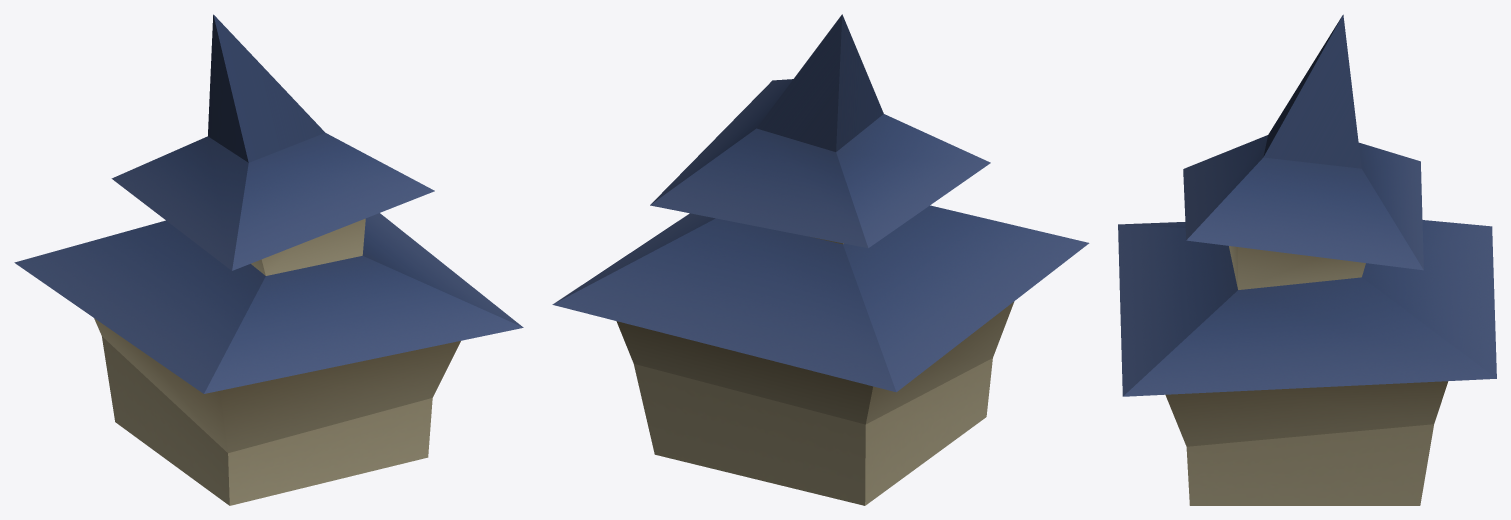
File: big_workers_house0.glb
3 views of the same model, side by side, from view 1: azimuth 30°, elevation 25°; view 2: azimuth 150°, elevation 25°; view 3: azimuth 270°, elevation 25° (orthographic). The views are drawn at different scales.
Parts seen in each view (by area): view 1: BigWorkersHouse; view 2: BigWorkersHouse; view 3: BigWorkersHouse.
Boxes of the visible parts, left/top/right/bottom form: BigWorkersHouse: left=14, top=14, right=523, bottom=505; BigWorkersHouse: left=552, top=14, right=1089, bottom=505; BigWorkersHouse: left=1118, top=14, right=1496, bottom=505.
Bounding box in the file's own units: 4.05 × 5 × 4.05.
Materials: 1 (1 with a texture image).
